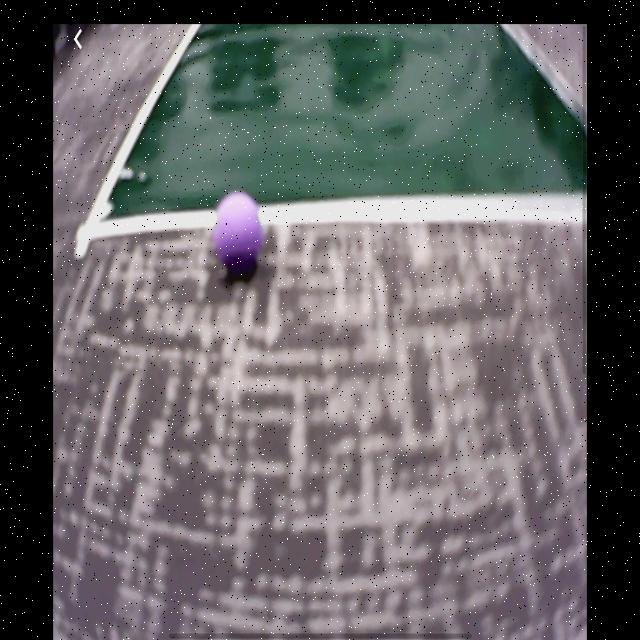ball: (212, 190, 265, 281)
